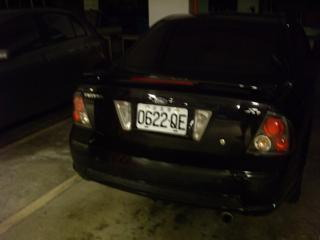plate: (135, 101, 189, 136)
